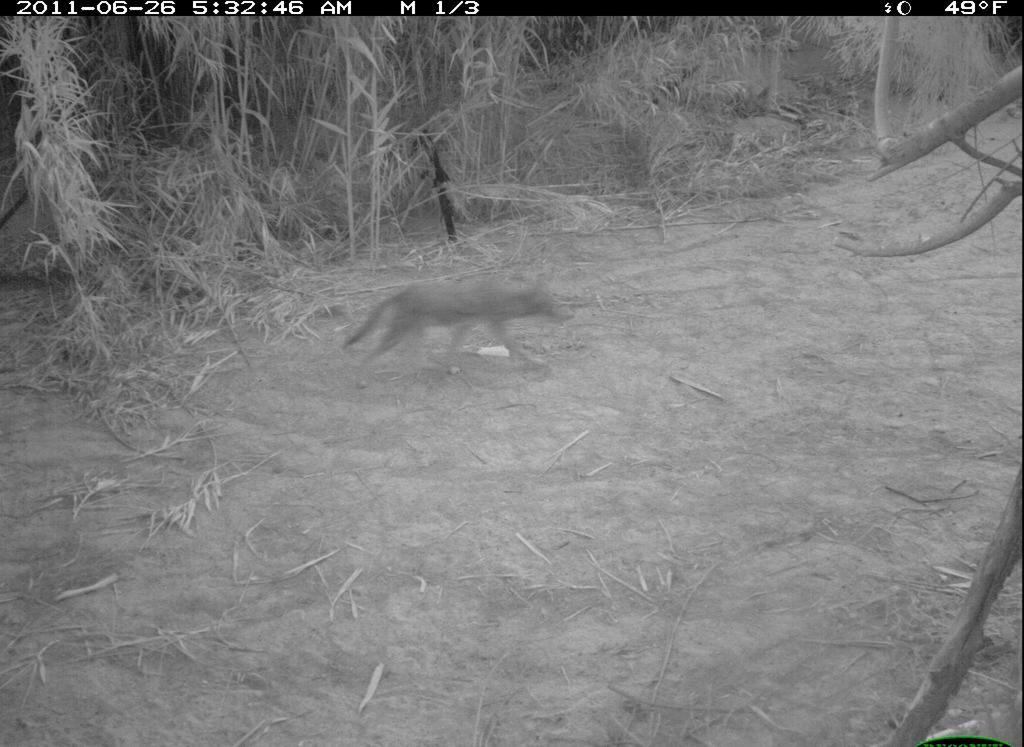coyote: (346, 265, 583, 388)
